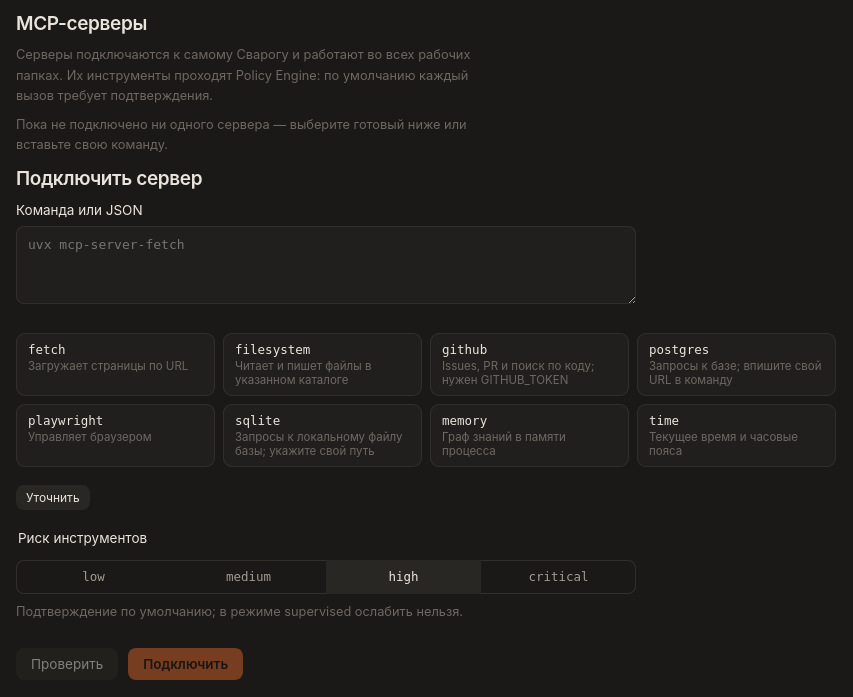
вкладка MCP: подключение › клик по пресету заполняет поле вставки
Click the button "github Issues, PR и поиск по коду; нужен GITHUB_TOKEN" at {"x": 530, "y": 365}, box [430, 333, 629, 396]
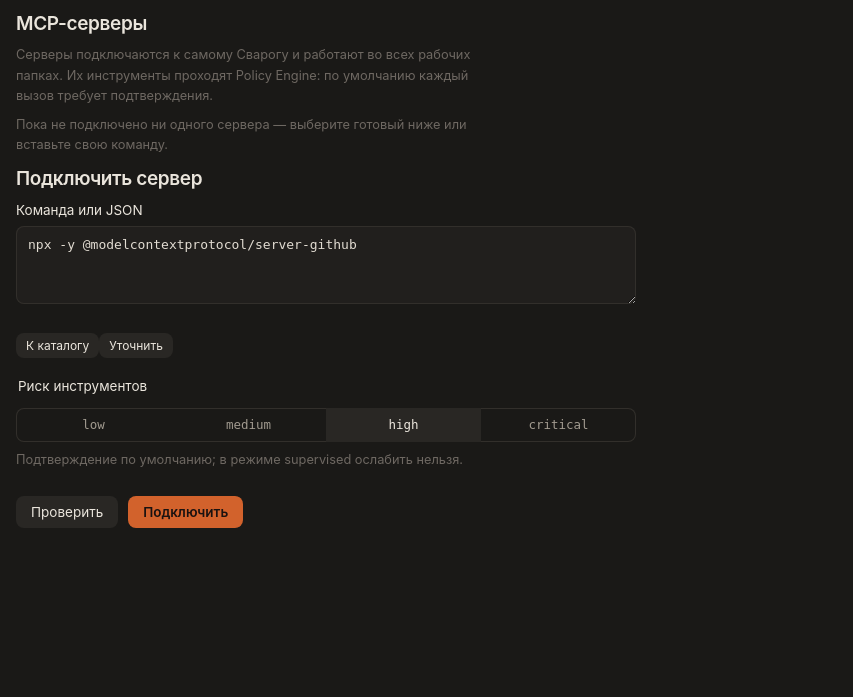
Expected: the text box labelled "Команда или JSON" holds "npx -y @modelcontextprotocol/server-github", [16, 226, 636, 304]
